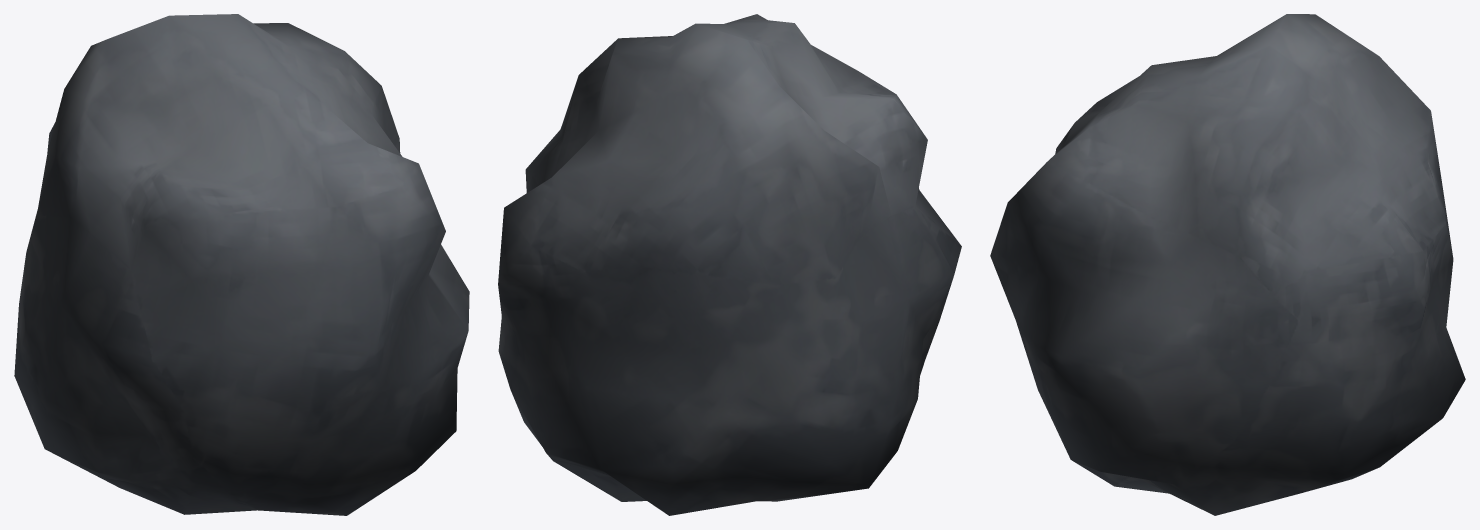
File: Batu4.fbx
3 renders of one model, left to right at view 1: azimuth 30°, elevation 25°; view 2: azimuth 150°, elevation 25°; view 3: azimuth 270°, elevation 25°, orthographic. The views are drawn at different scales.
Parts seen in each view (by area): view 1: Batu4; view 2: Batu4; view 3: Batu4.
Boxes of the visible parts, bbox=[...] form: Batu4: bbox=[14, 14, 469, 515]; Batu4: bbox=[498, 14, 961, 515]; Batu4: bbox=[990, 14, 1465, 515].
Bounding box in the file's own units: 211 × 257 × 255.
Materials: 1 (1 with a texture image).
